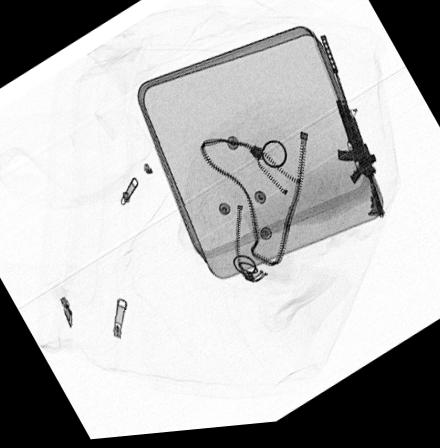Gun: (318, 40, 384, 224)
